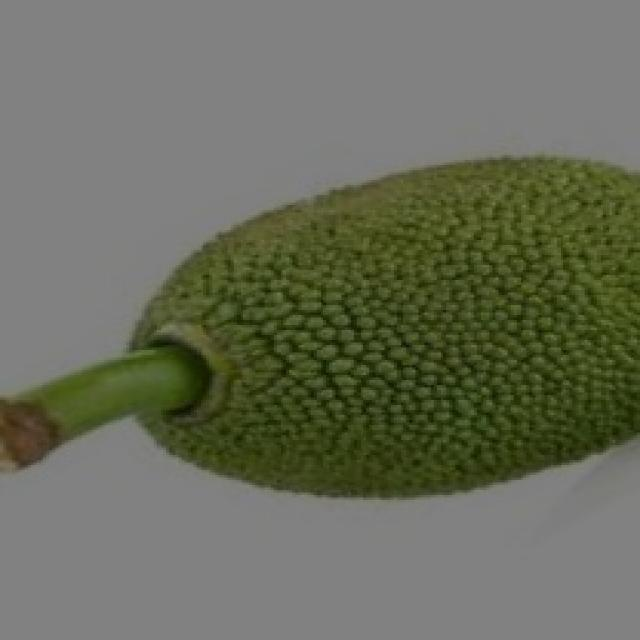Fruit: (255, 138, 640, 518)
